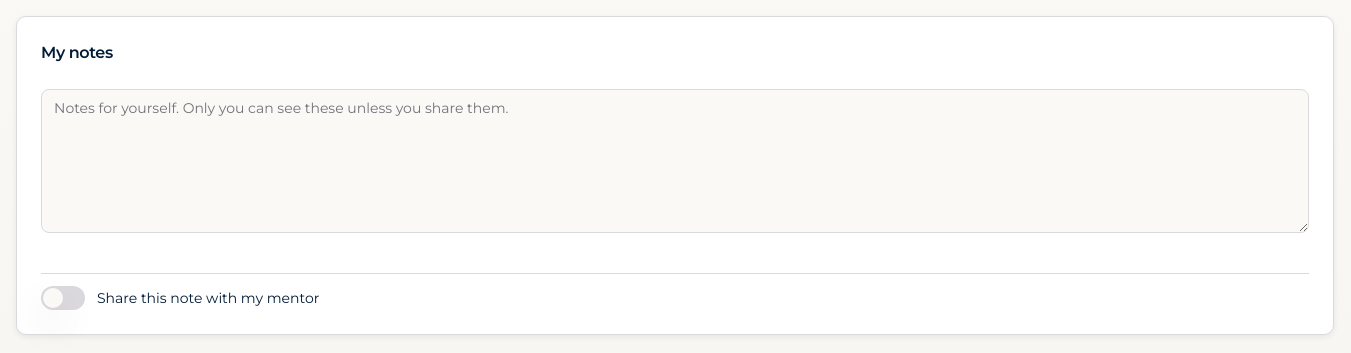
NotesPanel › autosaves via bw_learning_note_save after idle, with no Save button
Expected: the button "save" is not shown
Replace the text in the text box with placeholder "Notes for yourself" with "hello" at (675, 161), box [41,89,1309,233]
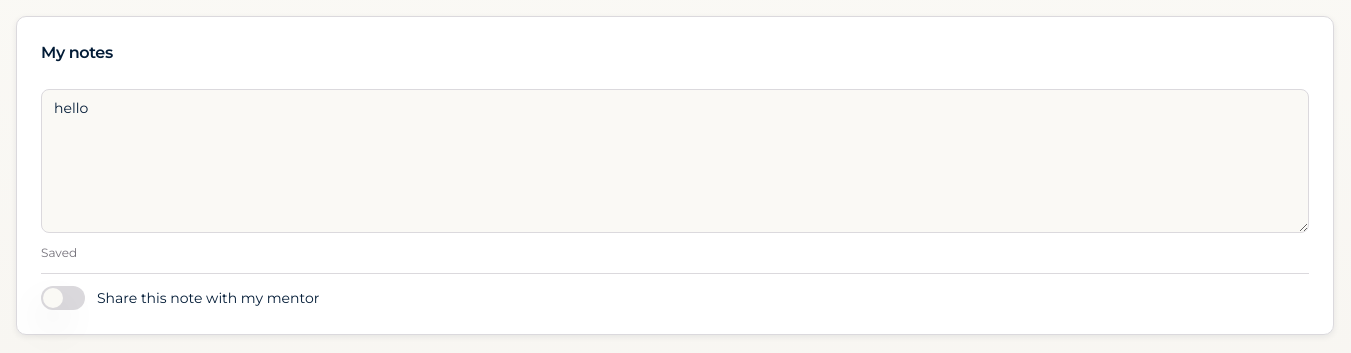
Expected: the text "Saved" is shown, [41,245,77,261]
